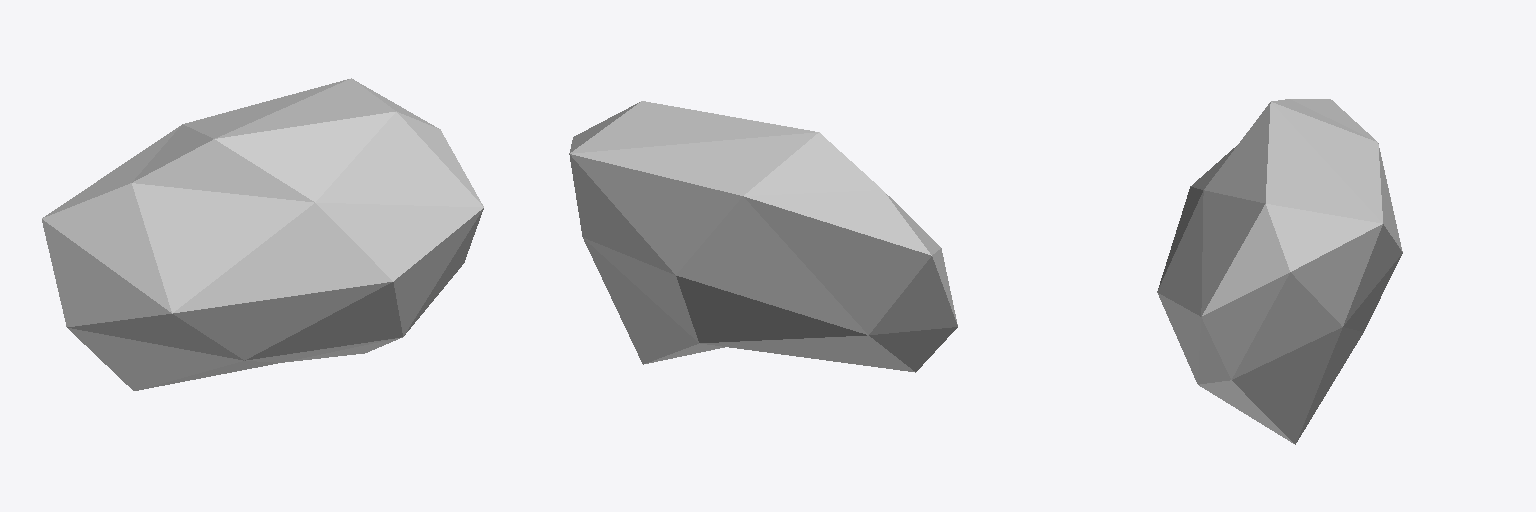
File: green_bush.obj
The picture shows the model from 3 angles: view 1: azimuth 30°, elevation 25°; view 2: azimuth 150°, elevation 25°; view 3: azimuth 270°, elevation 25°; orthographic projection.
Visible parts, largest first — view 1: p5-green_Icosphere.030; view 2: p5-green_Icosphere.030; view 3: p5-green_Icosphere.030.
Boxes of the visible parts, x1,y1,x2,y2 form: p5-green_Icosphere.030: [42, 78, 483, 390]; p5-green_Icosphere.030: [569, 101, 957, 372]; p5-green_Icosphere.030: [1157, 99, 1402, 444].
Size of the model in its own units: 3.36 by 2.23 by 1.88.